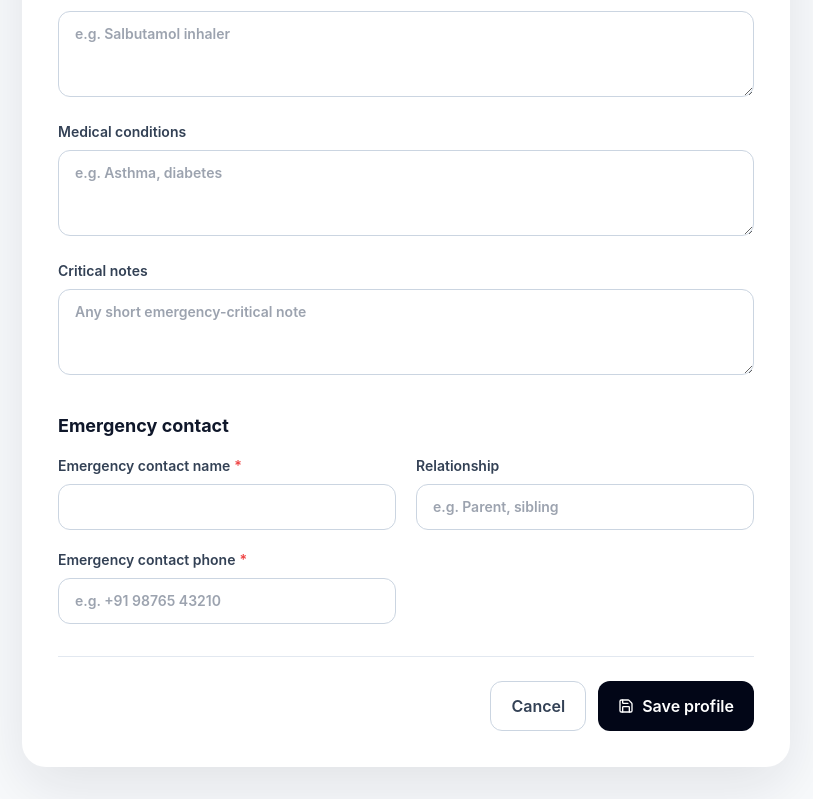
Test case: blocks submission when required medical profile fields are missing
The image size is (813, 799).
(page scrolled)
Click the button "Save profile". click: click(676, 706)
box: [598,681,754,731]
(page scrolled)
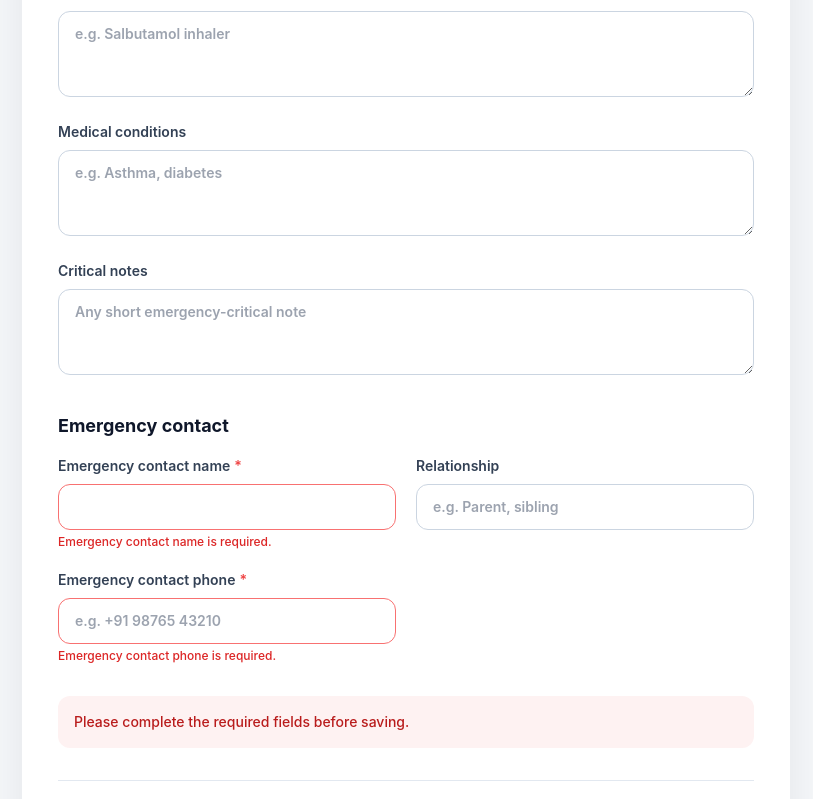
Result: the text "Please complete the required fields before saving." is shown at [58,696,754,748]
